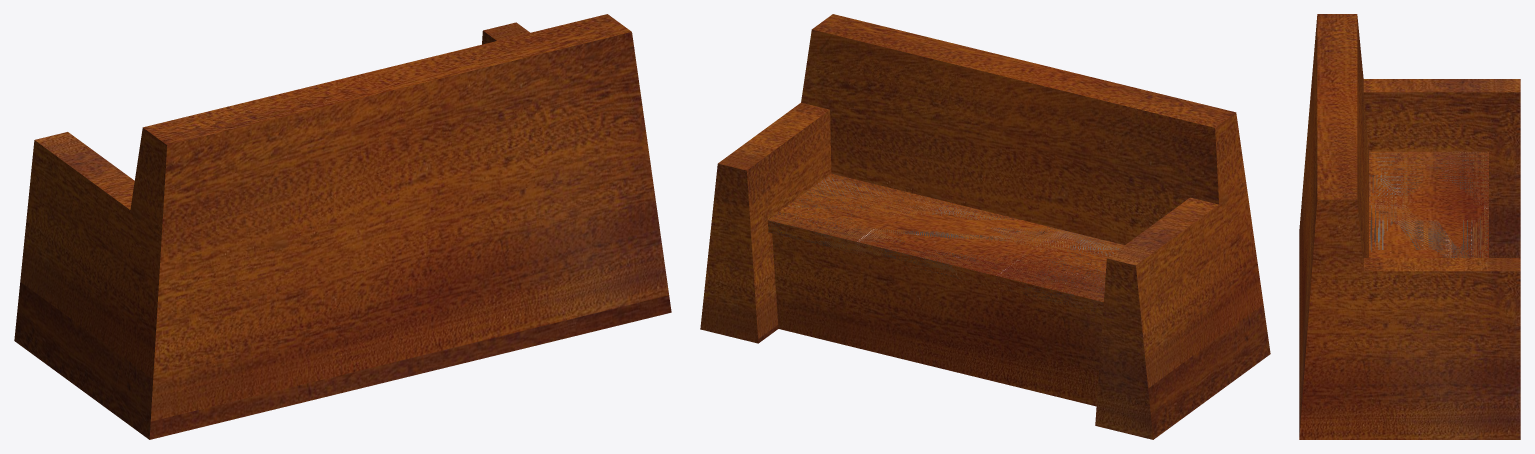
3 renders of one model, left to right at view 1: azimuth 30°, elevation 25°; view 2: azimuth 150°, elevation 25°; view 3: azimuth 270°, elevation 25°, orthographic. The views are drawn at different scales.
Parts seen in each view (by area): view 1: mesh1_mesh1-geometry; view 2: mesh1_mesh1-geometry; view 3: mesh1_mesh1-geometry.
Part boxes in pixels (<box>): mesh1_mesh1-geometry: <box>14,14,671,439</box>; mesh1_mesh1-geometry: <box>700,14,1270,439</box>; mesh1_mesh1-geometry: <box>1299,14,1520,439</box>.
Bounding box in the file's own units: 0.8267 × 0.4231 × 0.3709.
